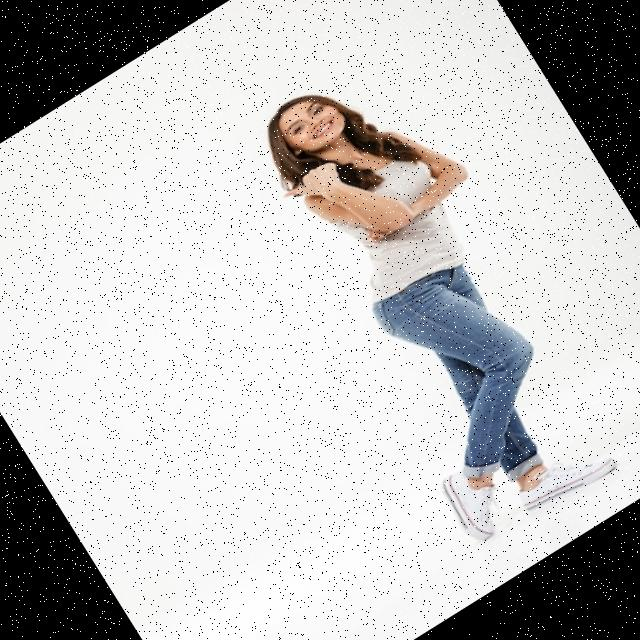Person: (222, 38, 640, 555)
